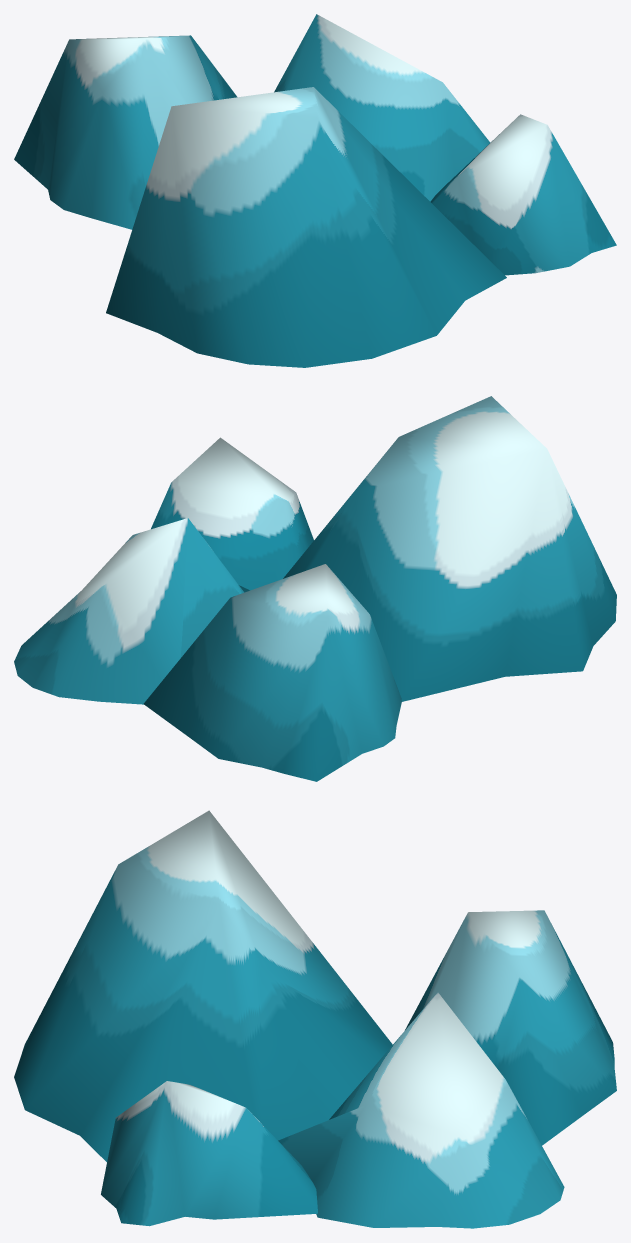
File: Rock 1x 1 4_preview_3DS_simplified.glb
3 views of the same model, one above another, from view 1: azimuth 30°, elevation 25°; view 2: azimuth 150°, elevation 25°; view 3: azimuth 270°, elevation 25° (orthographic). The views are drawn at different scales.
Parts seen in each view (by area): view 1: Marine Park Empire model; view 2: Marine Park Empire model; view 3: Marine Park Empire model.
Boxes of the visible parts, <box> form: Marine Park Empire model: <box>14,14,616,367</box>; Marine Park Empire model: <box>14,396,616,781</box>; Marine Park Empire model: <box>14,810,616,1228</box>.
Size of the model in its own units: 25.29 by 10.93 by 27.91.
1 material, 1 textured.
